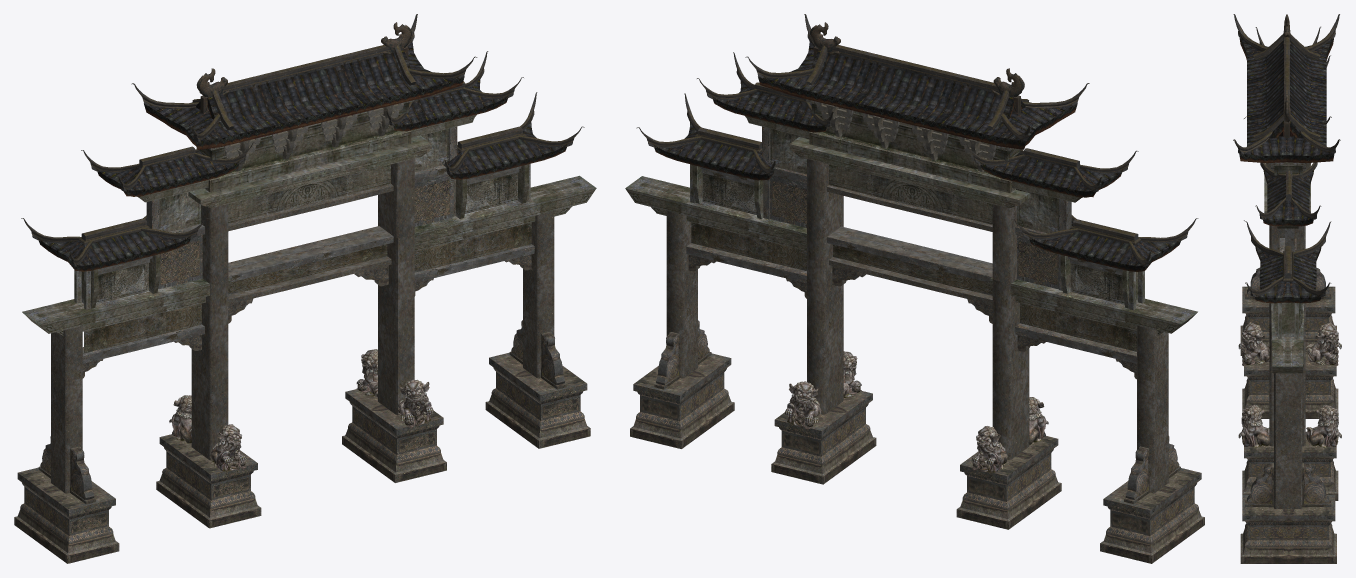
Rendered from 大牌坊.gltf.
3 renders of one model, left to right at view 1: azimuth 30°, elevation 25°; view 2: azimuth 150°, elevation 25°; view 3: azimuth 270°, elevation 25°, orthographic. The views are drawn at different scales.
Visible parts, largest first — view 1: 大牌坊; view 2: 大牌坊; view 3: 大牌坊.
Boxes of the visible parts, left/top/right/bottom form: 大牌坊: left=14, top=14, right=596, bottom=563; 大牌坊: left=625, top=14, right=1204, bottom=563; 大牌坊: left=1233, top=14, right=1341, bottom=563.
Bounding box in the file's own units: 12.56 × 9.39 × 2.35.
Materials: 8 (8 with a texture image).
